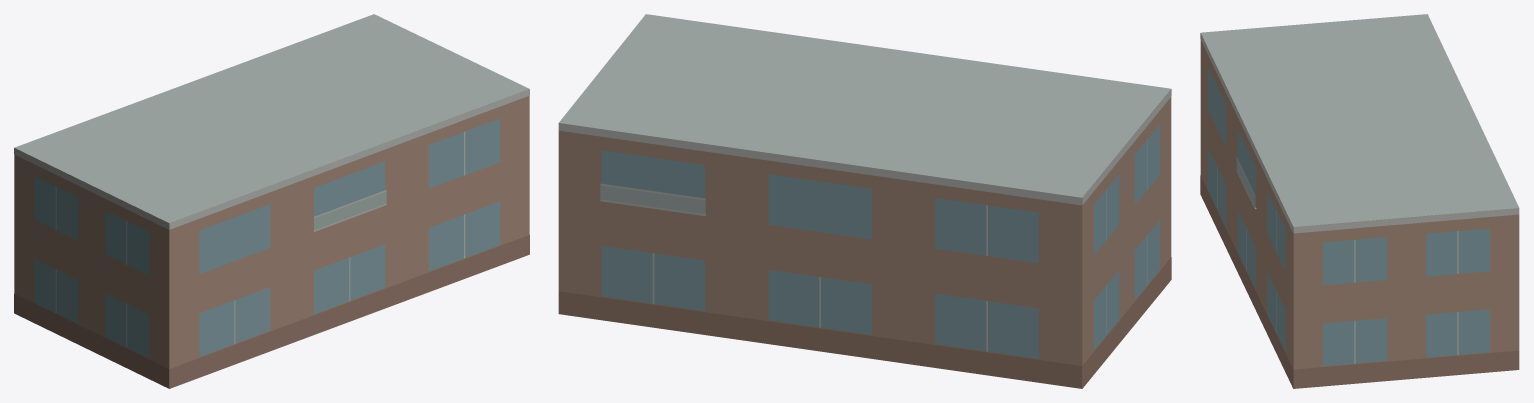
The model's file is survey-upis-32699345.glb.
3 views of the same model, side by side, from view 1: azimuth 30°, elevation 25°; view 2: azimuth 150°, elevation 25°; view 3: azimuth 270°, elevation 25° (orthographic). The views are drawn at different scales.
Visible parts, largest first — view 1: survey-upis-32699345.tmp; view 2: survey-upis-32699345.tmp; view 3: survey-upis-32699345.tmp.
Part boxes in pixels (x1,y1,x2,y2): survey-upis-32699345.tmp: (14,14,529,388); survey-upis-32699345.tmp: (558,14,1171,388); survey-upis-32699345.tmp: (1200,14,1519,388).
Size of the model in its own units: 17.24 by 6.1 by 10.91.
